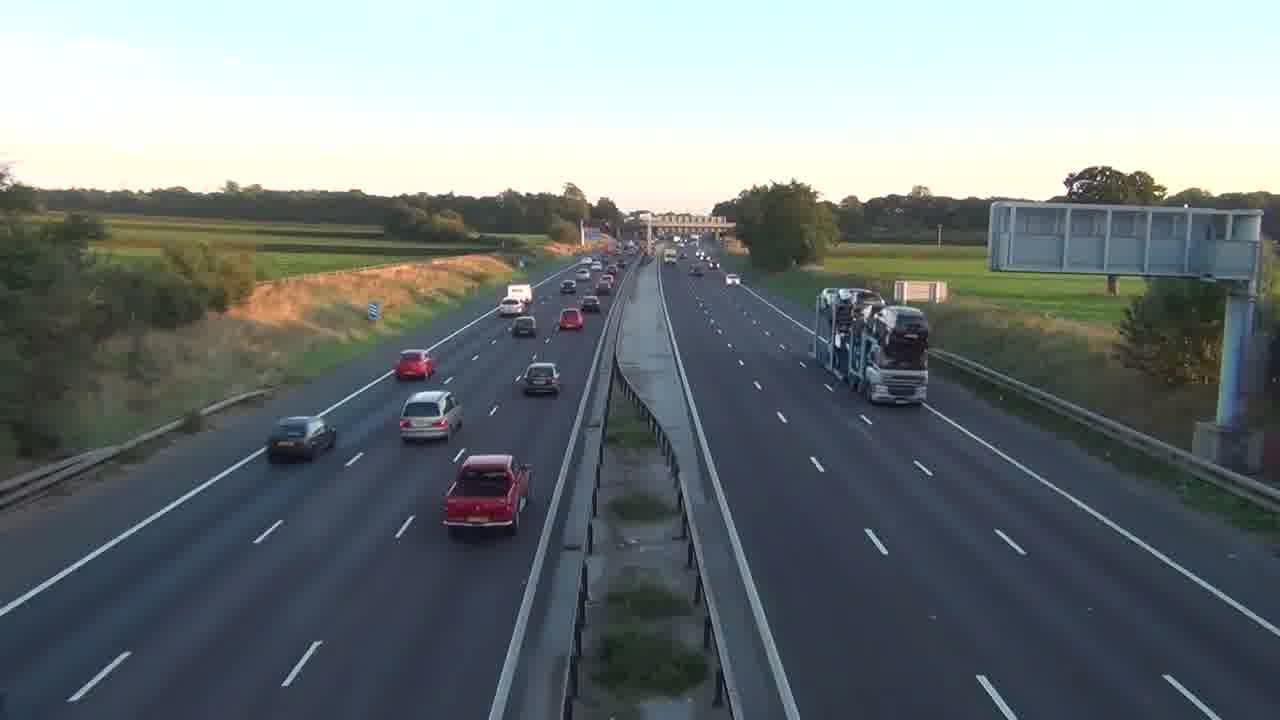car: (440, 450, 532, 534), (398, 389, 464, 443), (267, 414, 338, 463), (517, 361, 562, 396), (394, 350, 436, 381), (558, 306, 584, 332)
truck: (813, 287, 930, 407)
